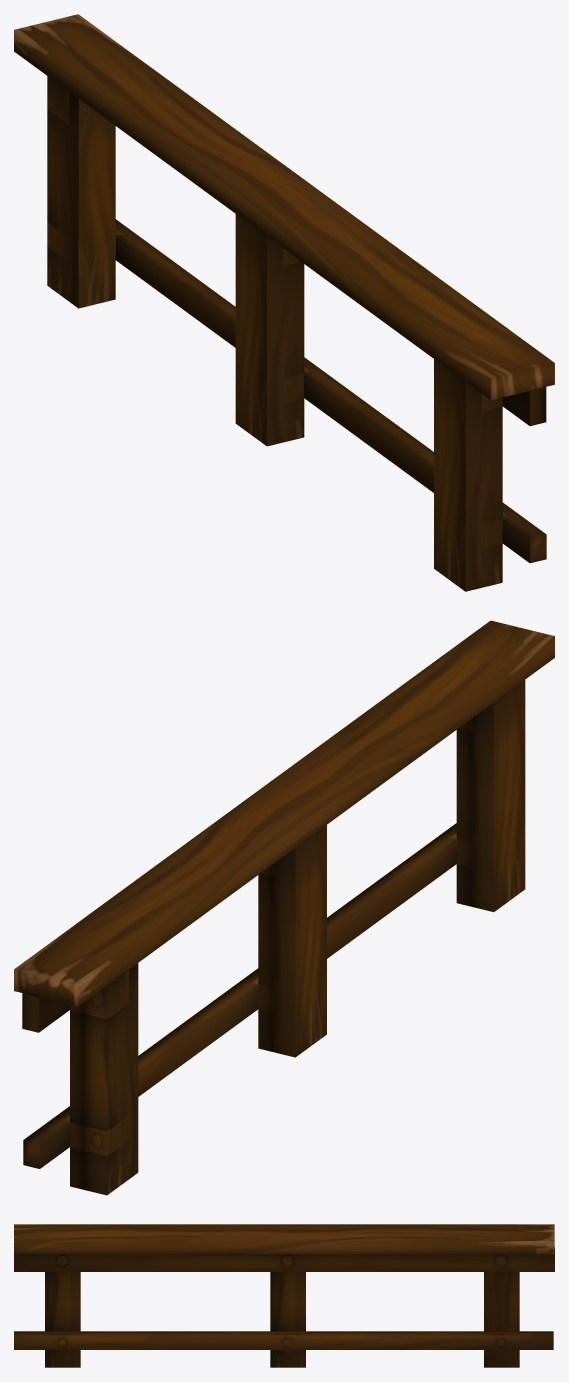
File: Zabor_01.fbx
3 views of the same model, one above another, from view 1: azimuth 30°, elevation 25°; view 2: azimuth 150°, elevation 25°; view 3: azimuth 270°, elevation 25° (orthographic). The views are drawn at different scales.
Visible parts, largest first — view 1: Model; view 2: Model; view 3: Model.
Part boxes in pixels (<box>): Model: <box>14,14,554,591</box>; Model: <box>14,620,554,1195</box>; Model: <box>14,1224,554,1367</box>.
Bounding box in the file's own units: 1.33 × 4.63 × 17.14.
1 material, 1 textured.
